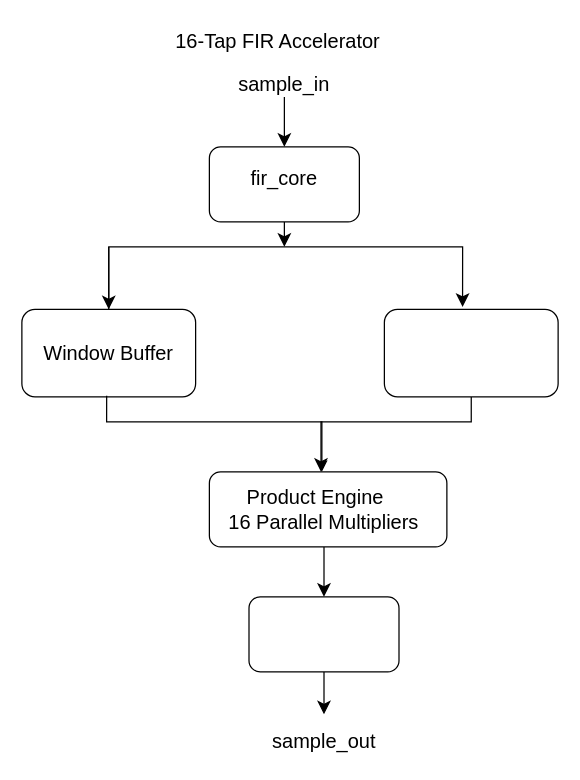
Some shapes in this 580 by 780 pixel diagram are drawn without their labels. Here are the shapes that lost their labels. From the top down, the centre of each, then its label:
pixel 470 352: Coefficient Bank
pixel 323 634: Pipelined Reduction Tree
